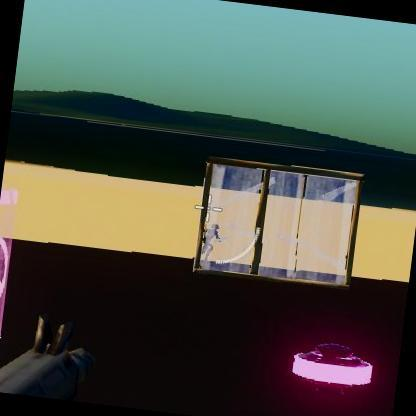person: (202, 216, 226, 266)
